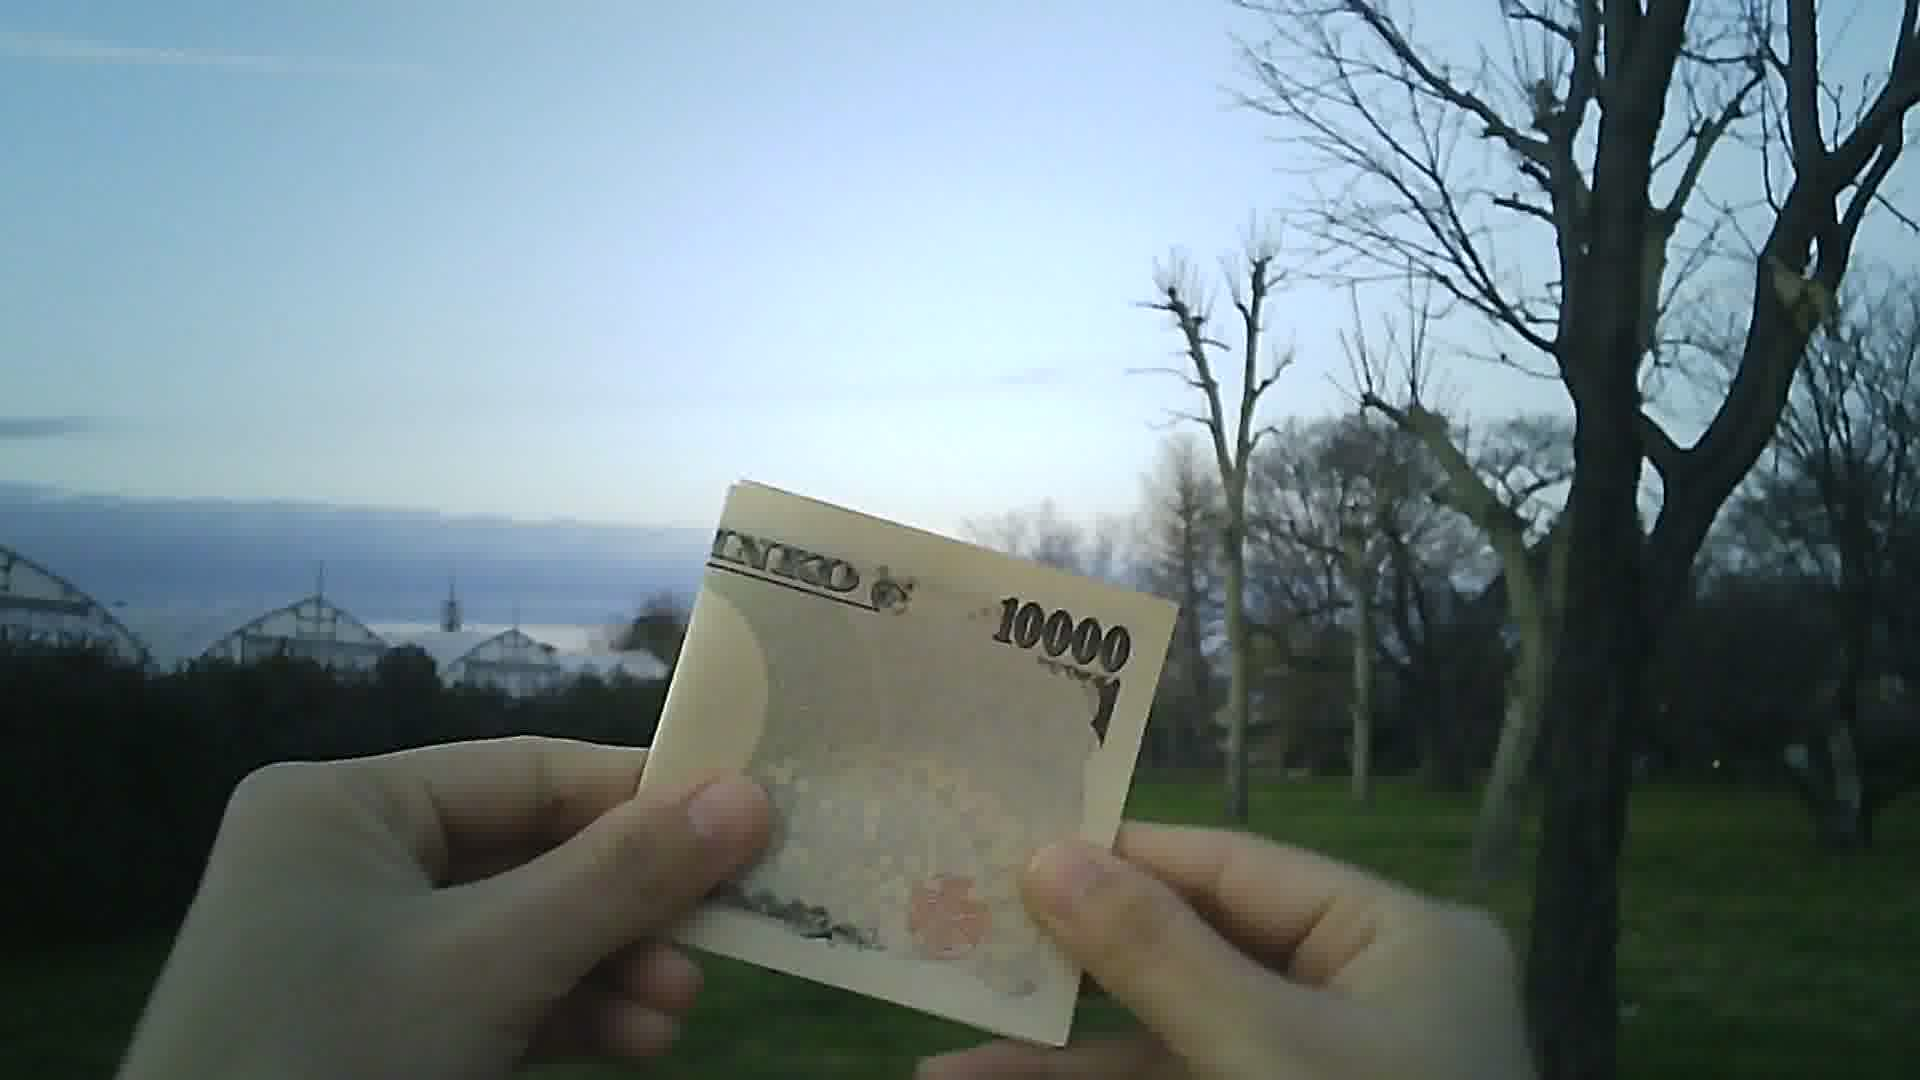10,000 Yen: (622, 450, 1201, 1021)
